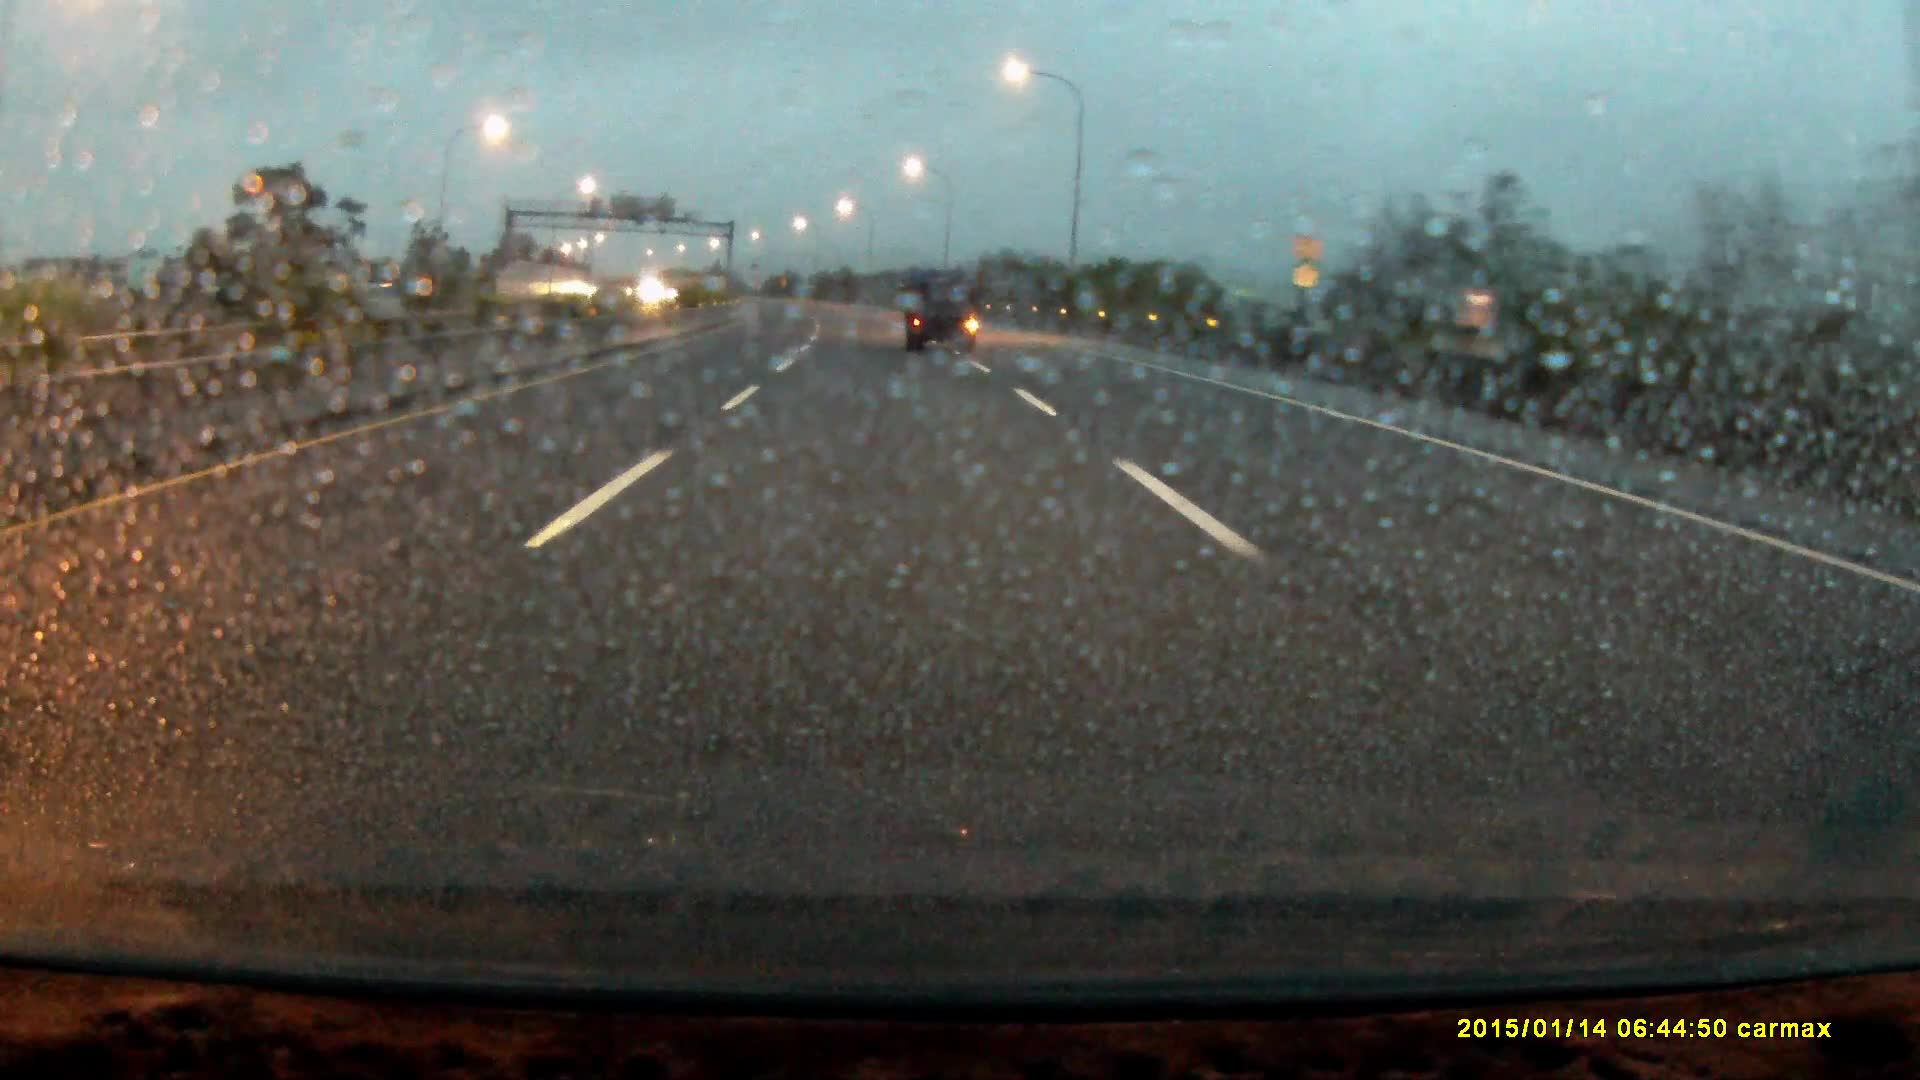vehicle: (905, 272, 981, 355)
